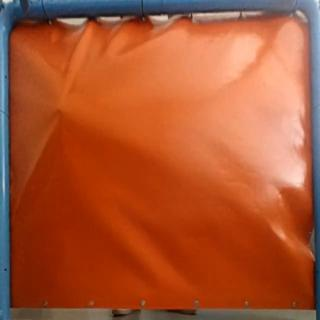Hit-hRxx: (51, 100, 69, 117)
